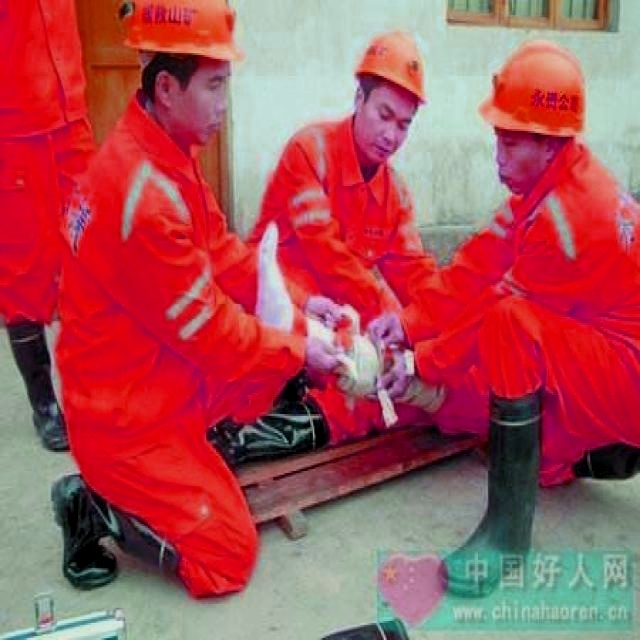Con_Casco: (121, 0, 236, 138), (351, 30, 430, 162)
